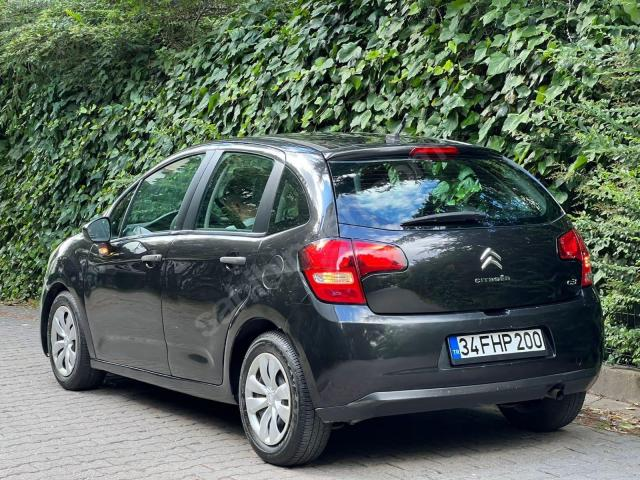plaka: (448, 329, 545, 364)
